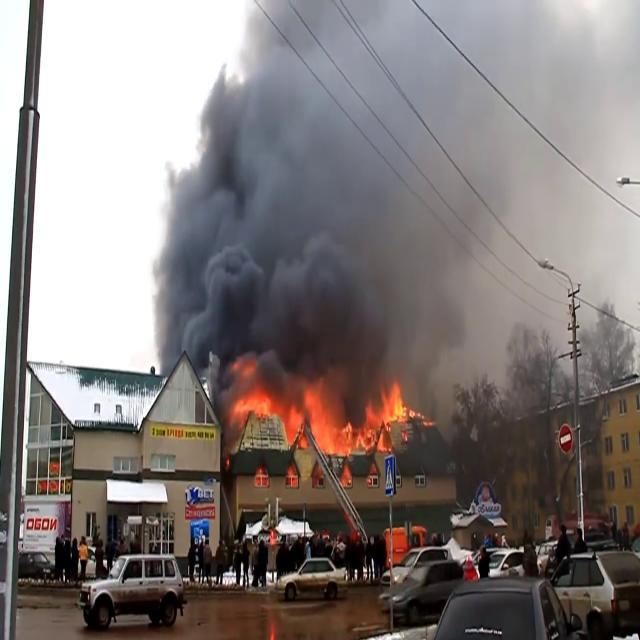Fire: (230, 375, 422, 453)
Smoke: (142, 1, 506, 383)
